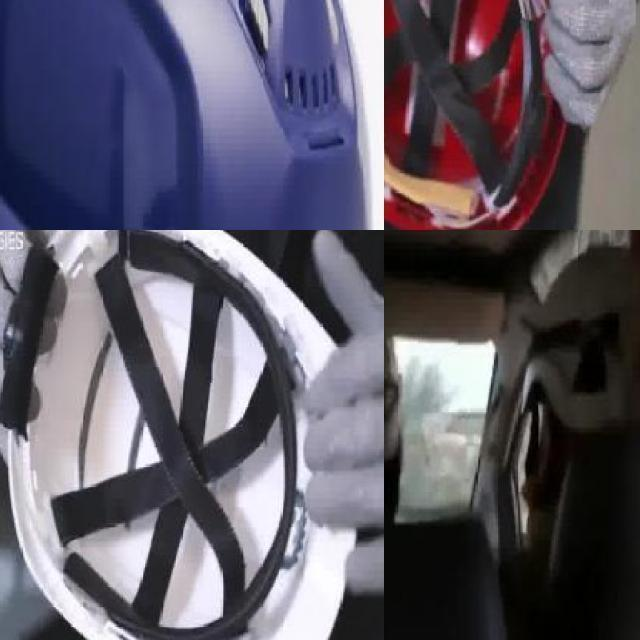apron: (299, 230, 384, 600), (0, 230, 69, 470), (539, 0, 639, 136)
